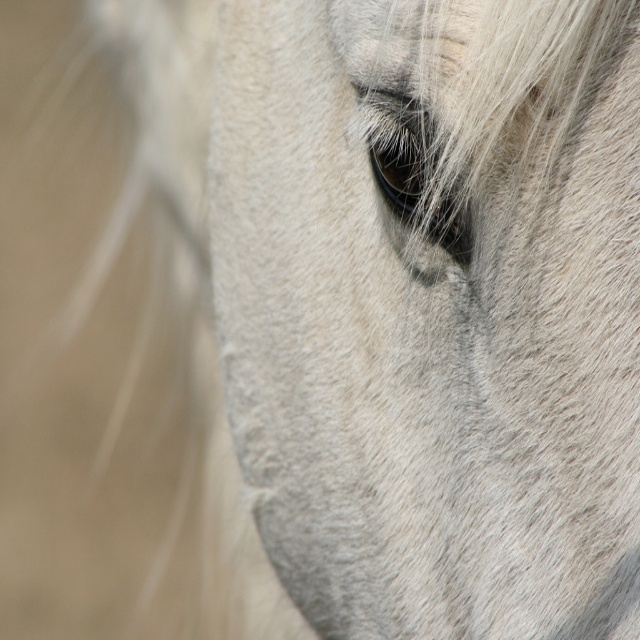Horse: (16, 1, 639, 639)
